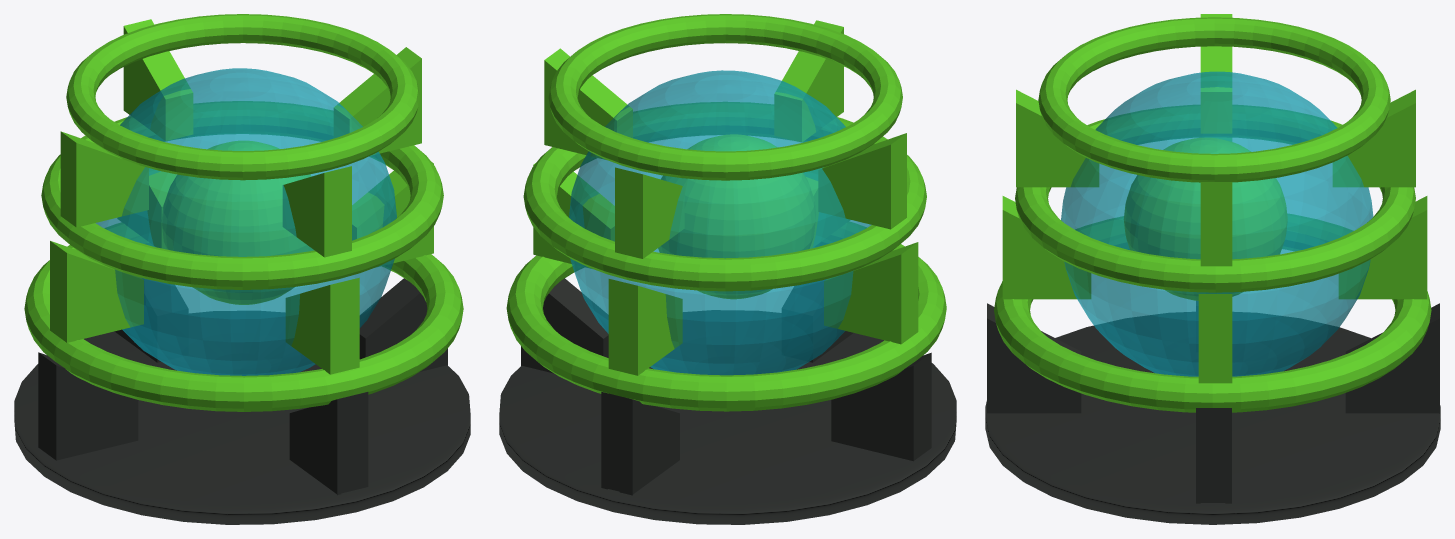
Rendered from pulse.obj.
3 renders of one model, left to right at view 1: azimuth 30°, elevation 25°; view 2: azimuth 150°, elevation 25°; view 3: azimuth 270°, elevation 25°, orthographic.
Visible parts, largest first — view 1: Halo, Base, Ring3, Rin2, Support1, Ring1, Support3, Support2, Core; view 2: Halo, Base, Ring3, Rin2, Support1, Ring1, Support3, Support2, Core; view 3: Halo, Base, Ring3, Rin2, Ring1, Support3, Support1, Support2, Core.
Boxes of the visible parts, x1=… form: Halo: x1=95, y1=68, x2=396, y2=375; Base: x1=14, y1=311, x2=470, y2=524; Ring3: x1=66, y1=14, x2=419, y2=180; Rin2: x1=41, y1=101, x2=443, y2=289; Support1: x1=38, y1=278, x2=447, y2=494; Ring1: x1=24, y1=222, x2=463, y2=411; Support3: x1=60, y1=19, x2=421, y2=257; Support2: x1=50, y1=162, x2=433, y2=374; Core: x1=161, y1=140, x2=313, y2=304; Halo: x1=569, y1=70, x2=871, y2=375; Base: x1=499, y1=310, x2=956, y2=524; Ring3: x1=548, y1=14, x2=902, y2=180; Rin2: x1=523, y1=102, x2=926, y2=291; Support1: x1=521, y1=278, x2=931, y2=495; Ring1: x1=506, y1=222, x2=946, y2=411; Support3: x1=544, y1=20, x2=906, y2=258; Support2: x1=533, y1=163, x2=918, y2=375; Core: x1=658, y1=134, x2=815, y2=299; Halo: x1=1061, y1=71, x2=1373, y2=376; Base: x1=985, y1=312, x2=1440, y2=524; Ring3: x1=1038, y1=17, x2=1390, y2=182; Rin2: x1=1015, y1=105, x2=1415, y2=292; Ring1: x1=994, y1=214, x2=1431, y2=412; Support3: x1=1016, y1=14, x2=1415, y2=266; Support1: x1=987, y1=301, x2=1439, y2=503; Support2: x1=1002, y1=137, x2=1427, y2=383; Core: x1=1123, y1=137, x2=1287, y2=300.
Size of the model in its own units: 2 by 1.66 by 2.
